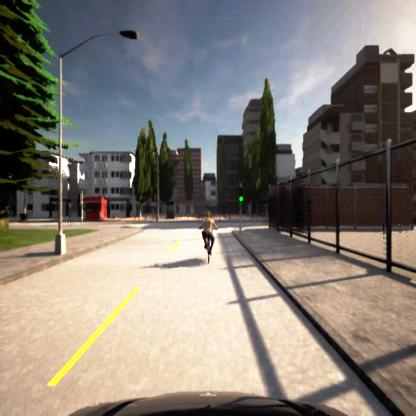bike: (198, 212, 218, 263)
